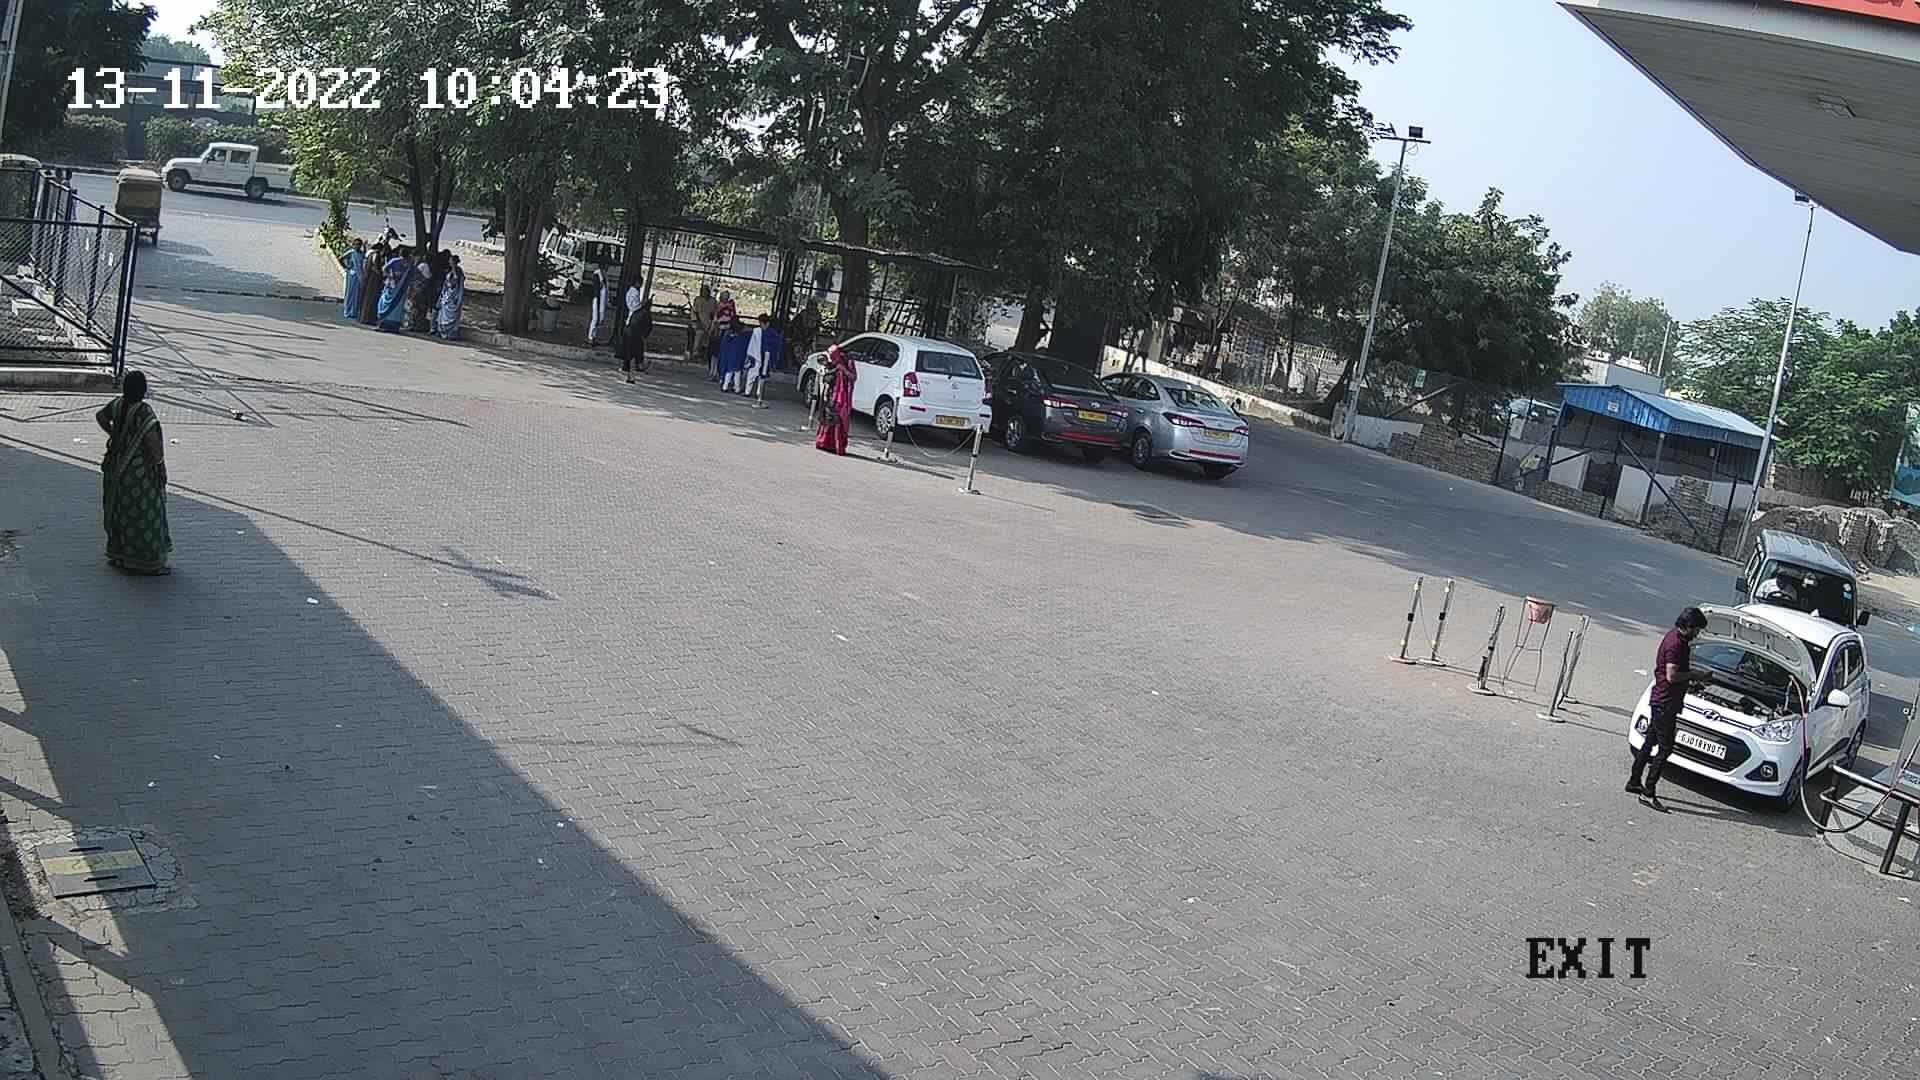Auto: (98, 160, 174, 251), (1, 146, 50, 251)
Bike: (367, 208, 422, 257)
Car: (1611, 587, 1883, 819), (782, 324, 1005, 458), (1088, 355, 1257, 485), (1717, 521, 1873, 661), (978, 340, 1142, 468), (145, 115, 307, 211), (525, 218, 634, 305)
